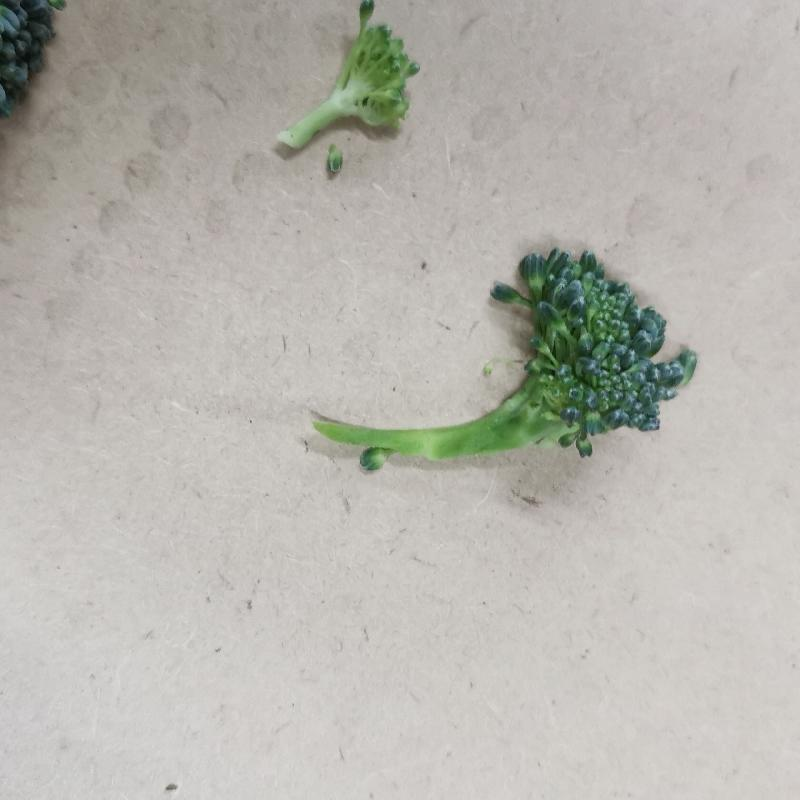broccoli: (303, 227, 706, 509)
